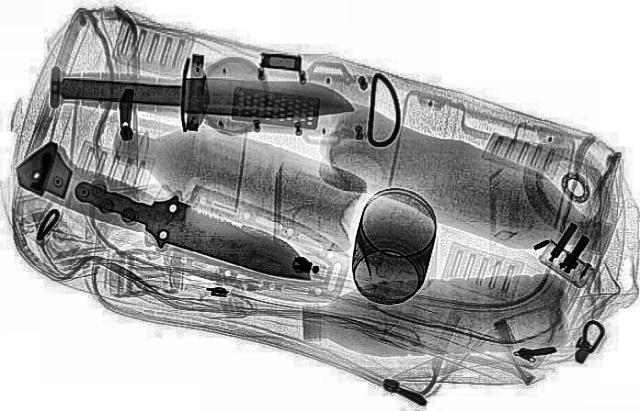Knife: (51, 167, 336, 295), (40, 42, 362, 142)
